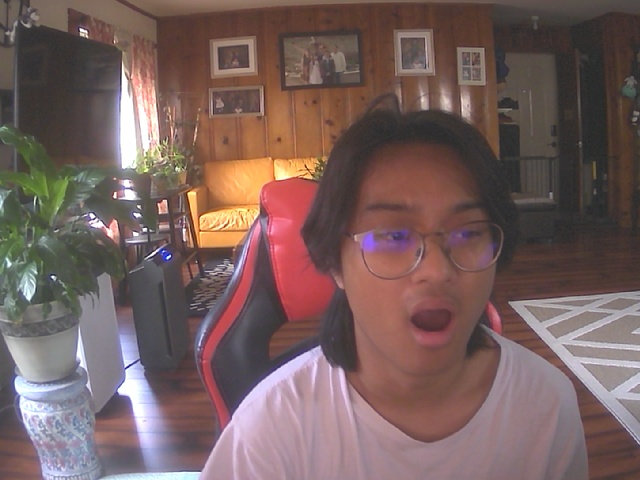fear: (325, 118, 516, 382)
